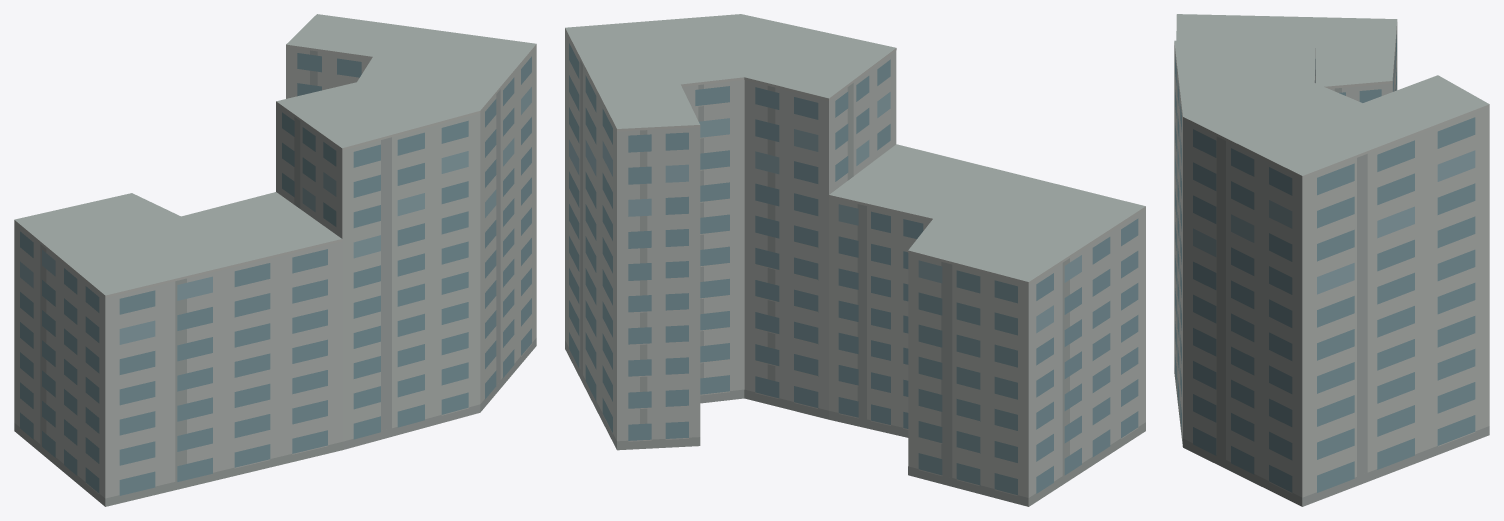
The model's file is residential-9434ccbc-d247-4278-93e3-f85df1f618a9.glb.
The picture shows the model from 3 angles, left to right: view 1: azimuth 30°, elevation 25°; view 2: azimuth 150°, elevation 25°; view 3: azimuth 270°, elevation 25°; orthographic projection. The views are drawn at different scales.
Visible parts, largest first — view 1: residential-9434ccbc-d247-4278-93e3-f85df1f618a9.tmp; view 2: residential-9434ccbc-d247-4278-93e3-f85df1f618a9.tmp; view 3: residential-9434ccbc-d247-4278-93e3-f85df1f618a9.tmp.
Boxes of the visible parts, x1,y1,x2,y2 form: residential-9434ccbc-d247-4278-93e3-f85df1f618a9.tmp: (14, 14, 536, 506); residential-9434ccbc-d247-4278-93e3-f85df1f618a9.tmp: (565, 14, 1145, 506); residential-9434ccbc-d247-4278-93e3-f85df1f618a9.tmp: (1174, 14, 1489, 506).
Size of the model in its own units: 51.67 by 30.5 by 26.36.
